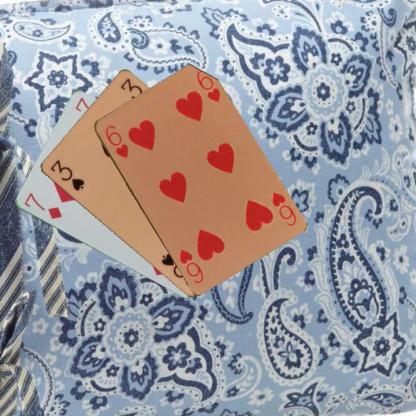3s: (47, 158, 85, 192)
6h: (269, 188, 298, 228), (102, 122, 130, 159)
7d: (21, 190, 63, 221)
